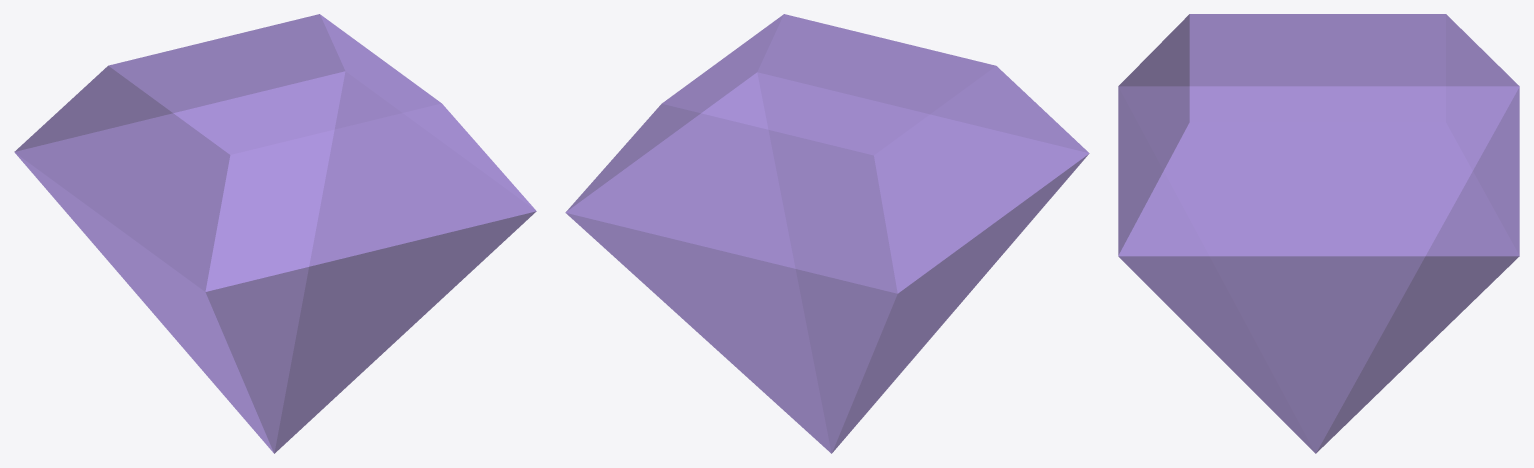
File: Gem_New_05.fbx
3 renders of one model, left to right at view 1: azimuth 30°, elevation 25°; view 2: azimuth 150°, elevation 25°; view 3: azimuth 270°, elevation 25°, orthographic. The views are drawn at different scales.
Parts seen in each view (by area): view 1: Model; view 2: Model; view 3: Model.
Boxes of the visible parts, x1=… form: Model: x1=14, y1=14, x2=536, y2=453; Model: x1=565, y1=14, x2=1089, y2=453; Model: x1=1118, y1=14, x2=1519, y2=453.
Size of the model in its own units: 53.08 by 56.39 by 53.08.
